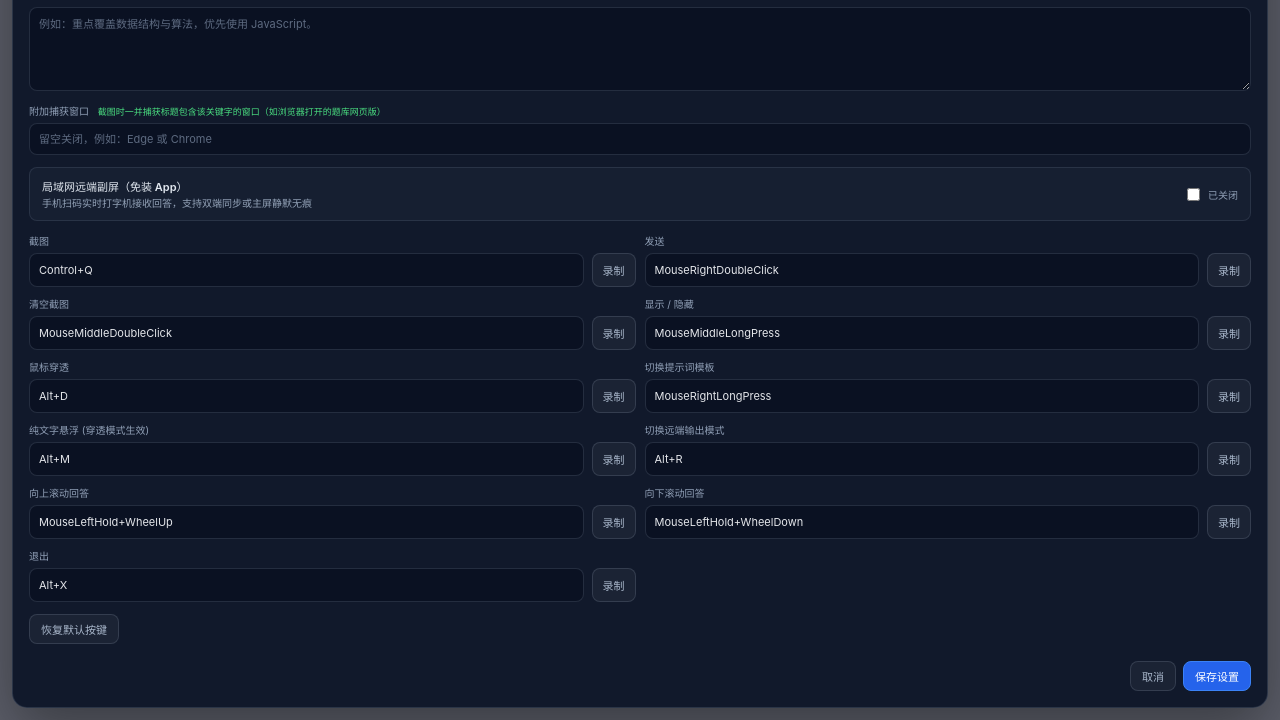
Test: SettingsPanel › restores the default hotkeys in the form without saving immediately
(page scrolled)
Click the button "恢复默认按键": click(74, 629) [29,614,119,644]
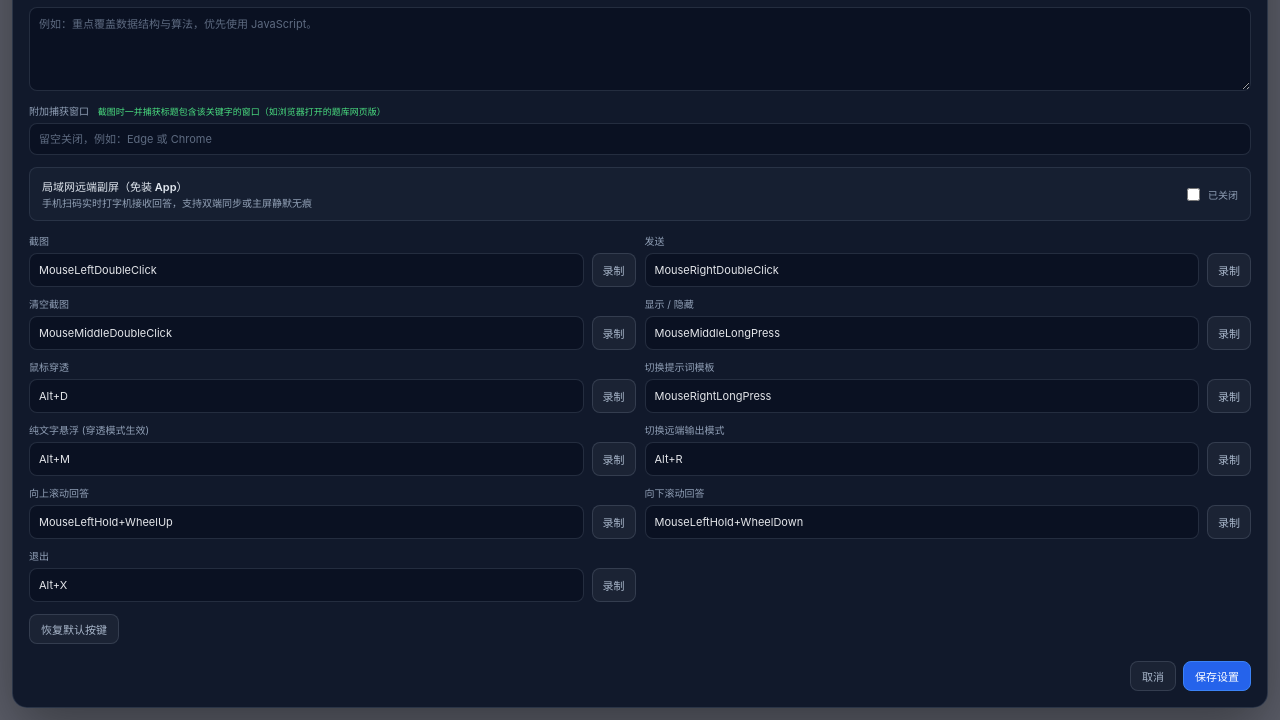
Expected: the field named "发送快捷键" holds "MouseRightDoubleClick", [644,253,1199,287]
Expected: the field named "截图快捷键" holds "MouseLeftDoubleClick", [29,253,584,287]
